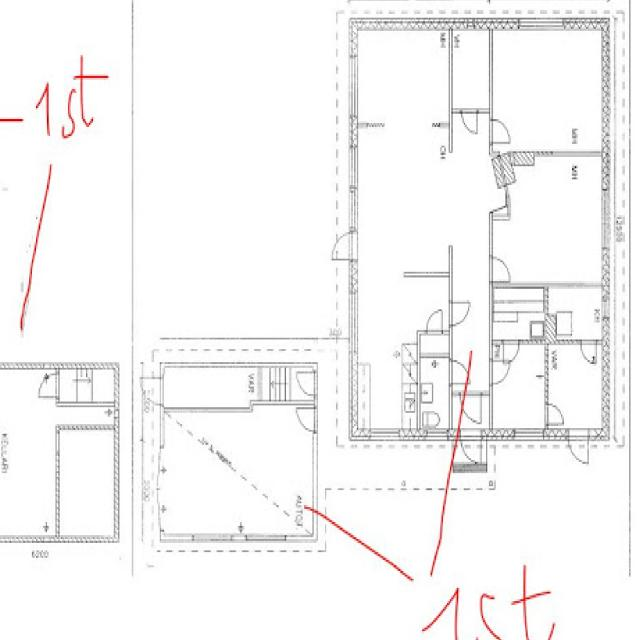door: (131, 488, 165, 529), (131, 448, 165, 488), (327, 231, 358, 261), (569, 428, 590, 471), (460, 428, 481, 469), (460, 390, 482, 424), (488, 257, 511, 282), (142, 378, 165, 403), (448, 303, 470, 327), (489, 120, 511, 143), (488, 360, 510, 383), (296, 409, 317, 433), (448, 361, 469, 384), (40, 374, 60, 396), (460, 109, 476, 136), (427, 310, 443, 336), (582, 340, 597, 367), (544, 406, 564, 426), (503, 341, 518, 366), (299, 374, 317, 394)
